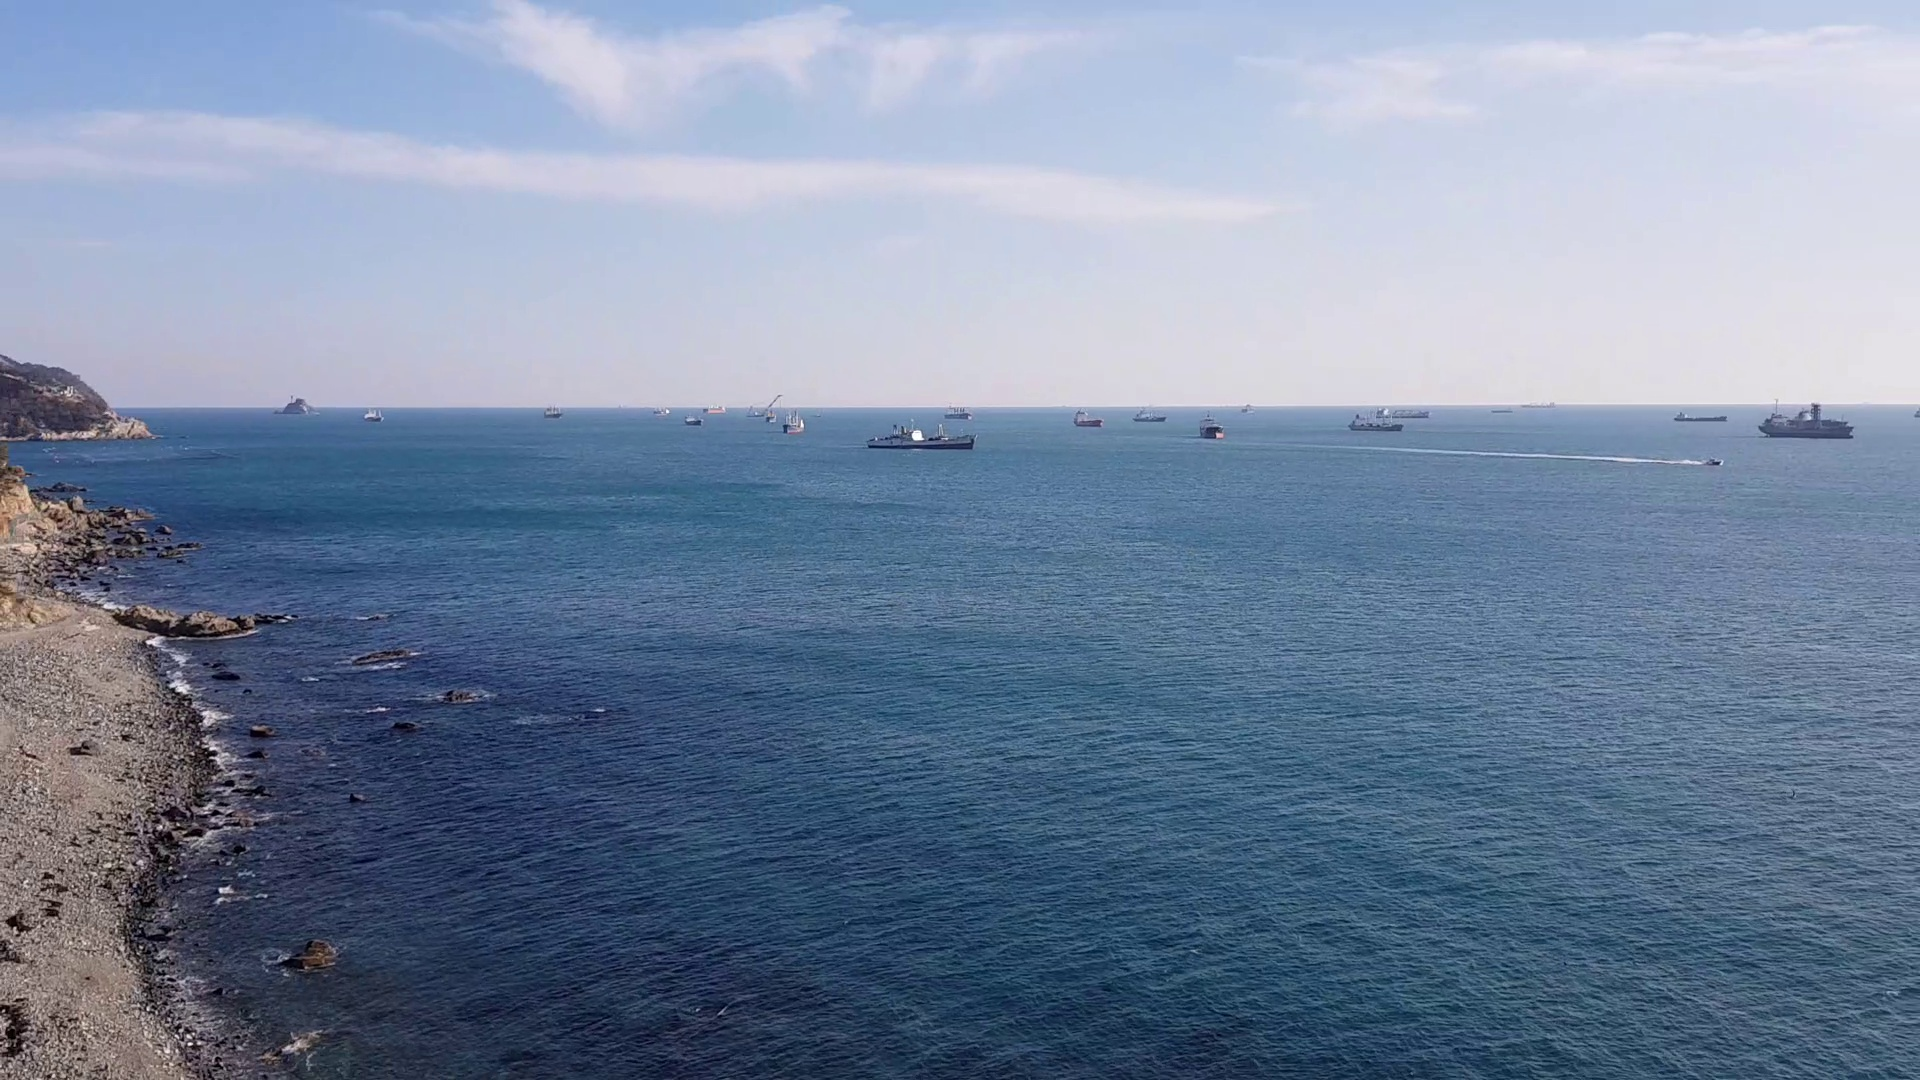Bulk_Carrier: (1751, 413, 1857, 436), (861, 425, 976, 446), (1340, 413, 1419, 430)
